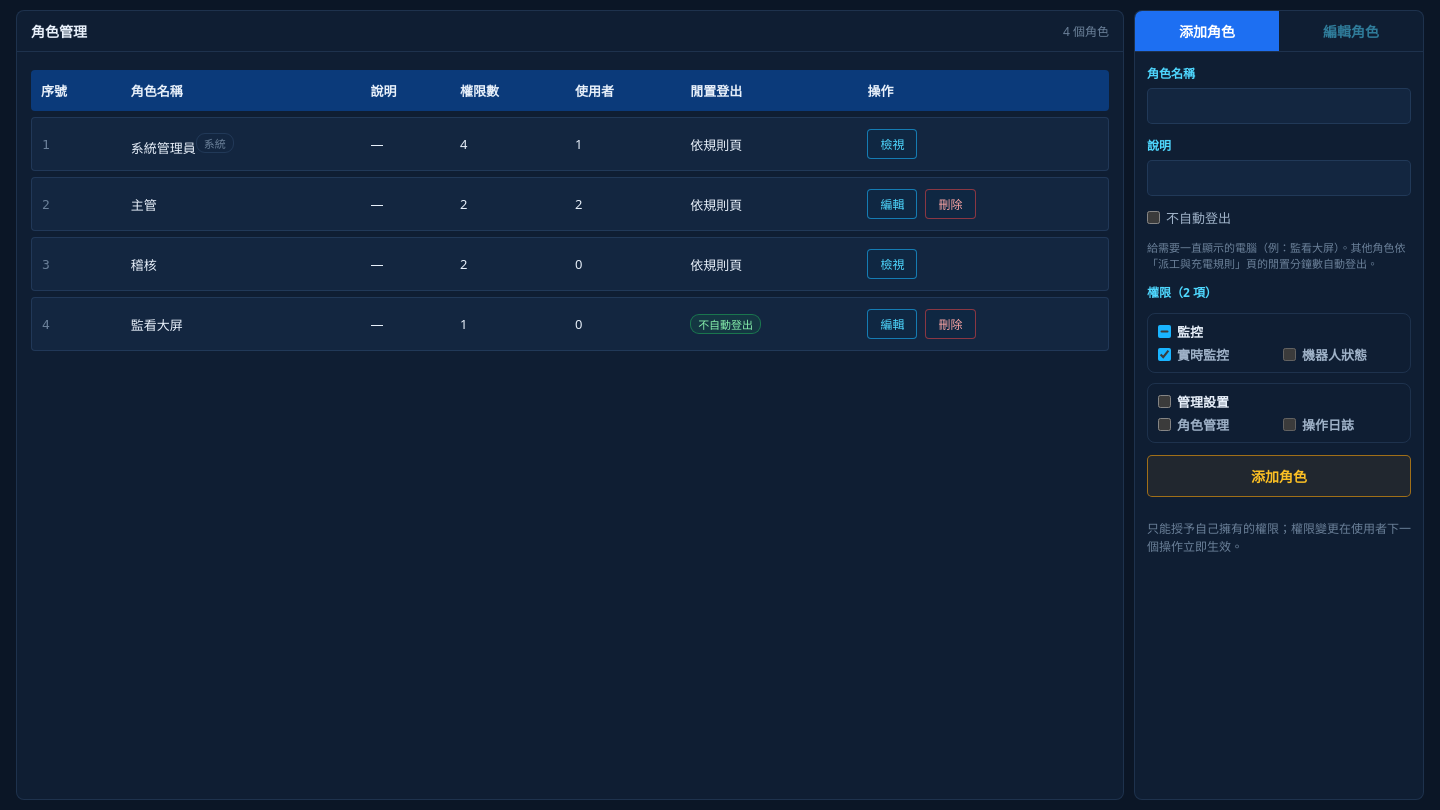
角色管理：不自動登出（PR #16 審查第 1 點） › 權限比自己高的角色、系統角色只能檢視；不能授予自己沒有的權限
This screenshot has width=1440, height=810.
Click the button "檢視" in the row of "稽核" at point(892, 264), box [868, 249, 918, 279]
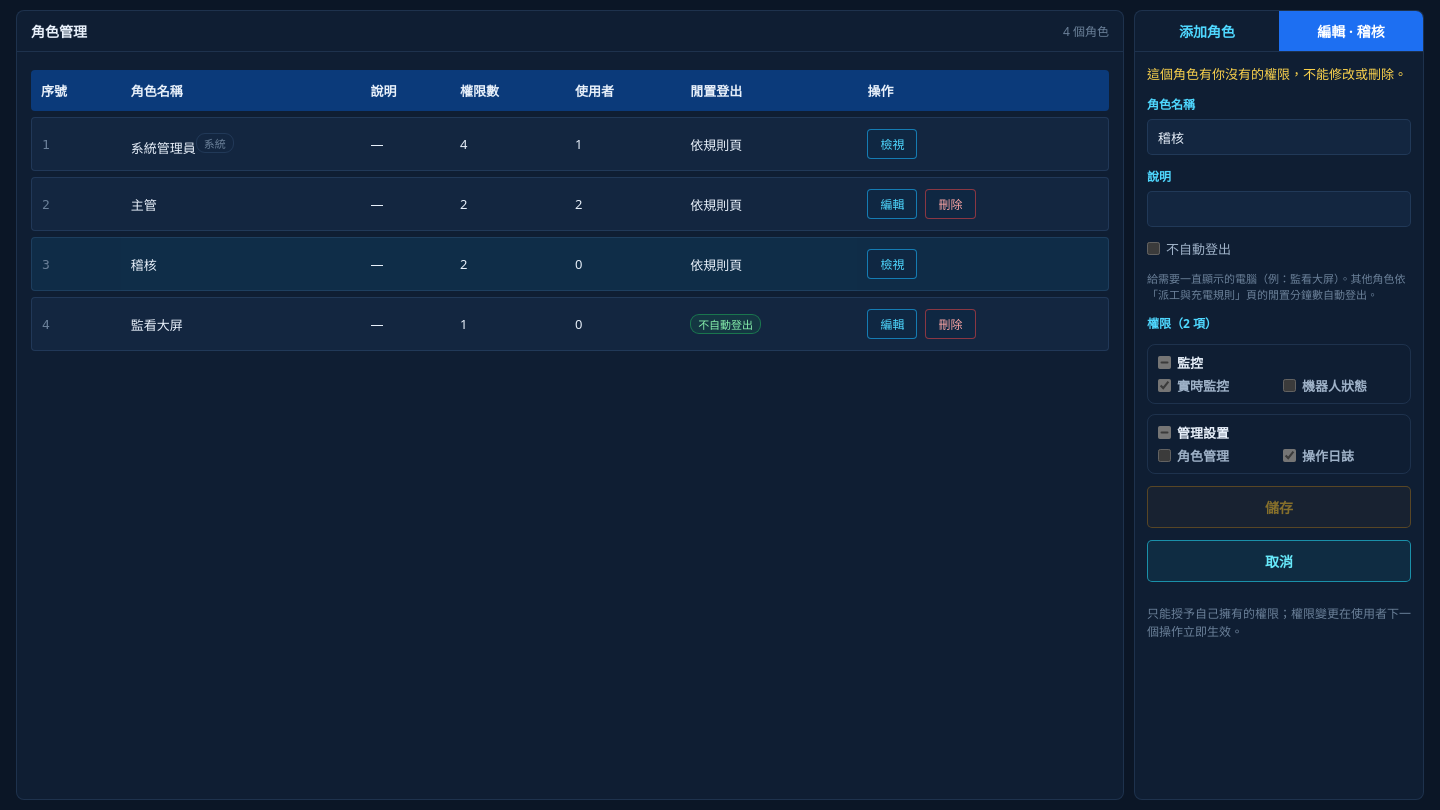
Expected: the text "這個角色有你沒有的權限，不能修改或刪除。" is shown, [1147, 64, 1411, 83]
Expected: the button "儲存" is disabled, [1147, 486, 1411, 528]
Click the button "檢視" in the row of "系統管理員" at point(892, 144), box [868, 129, 918, 159]
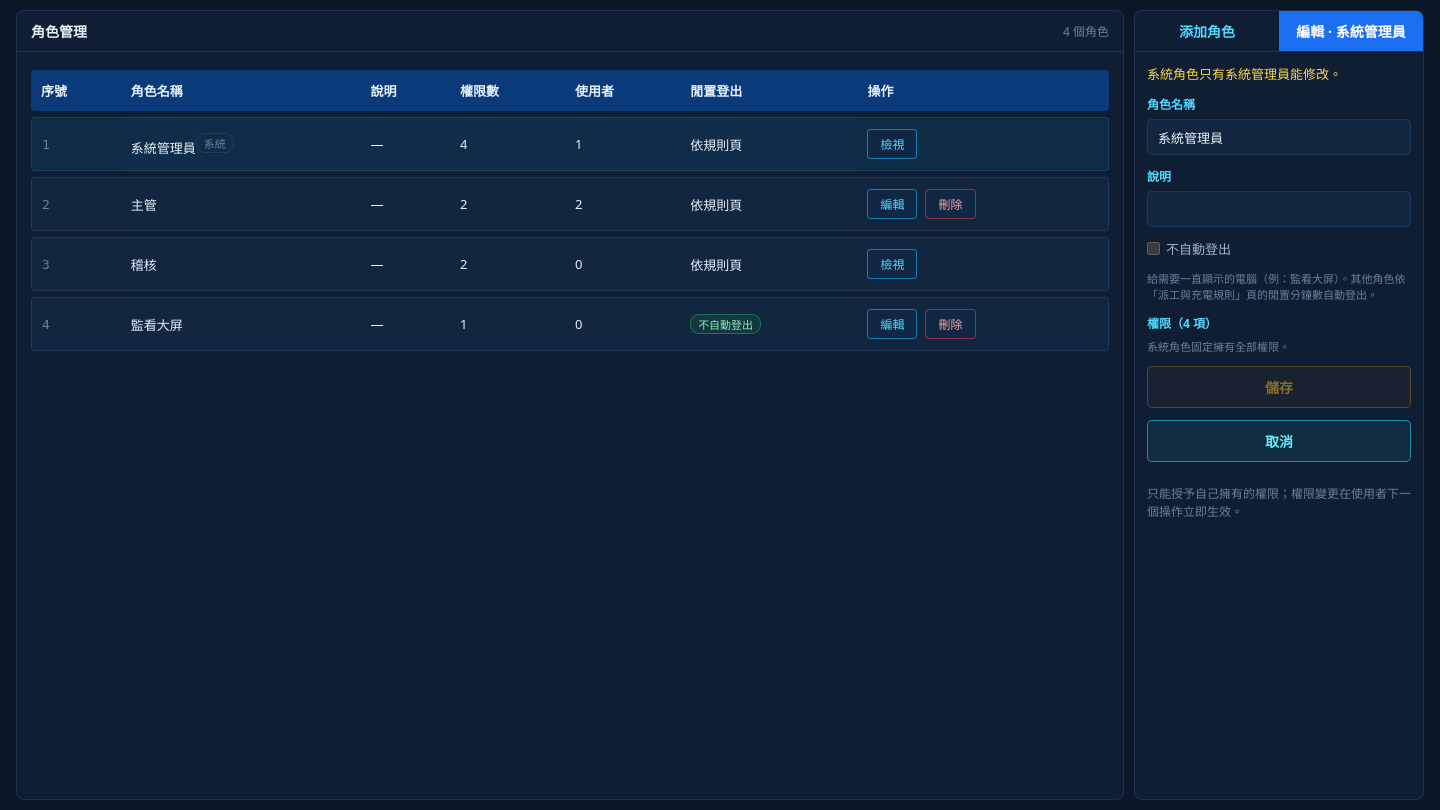
Expected: the text "系統角色只有系統管理員能修改。" is shown, [1147, 65, 1342, 83]
Note: 新增：自己沒有的權限不能勾
Click the button "添加角色" at point(1207, 31), box [1135, 11, 1279, 51]
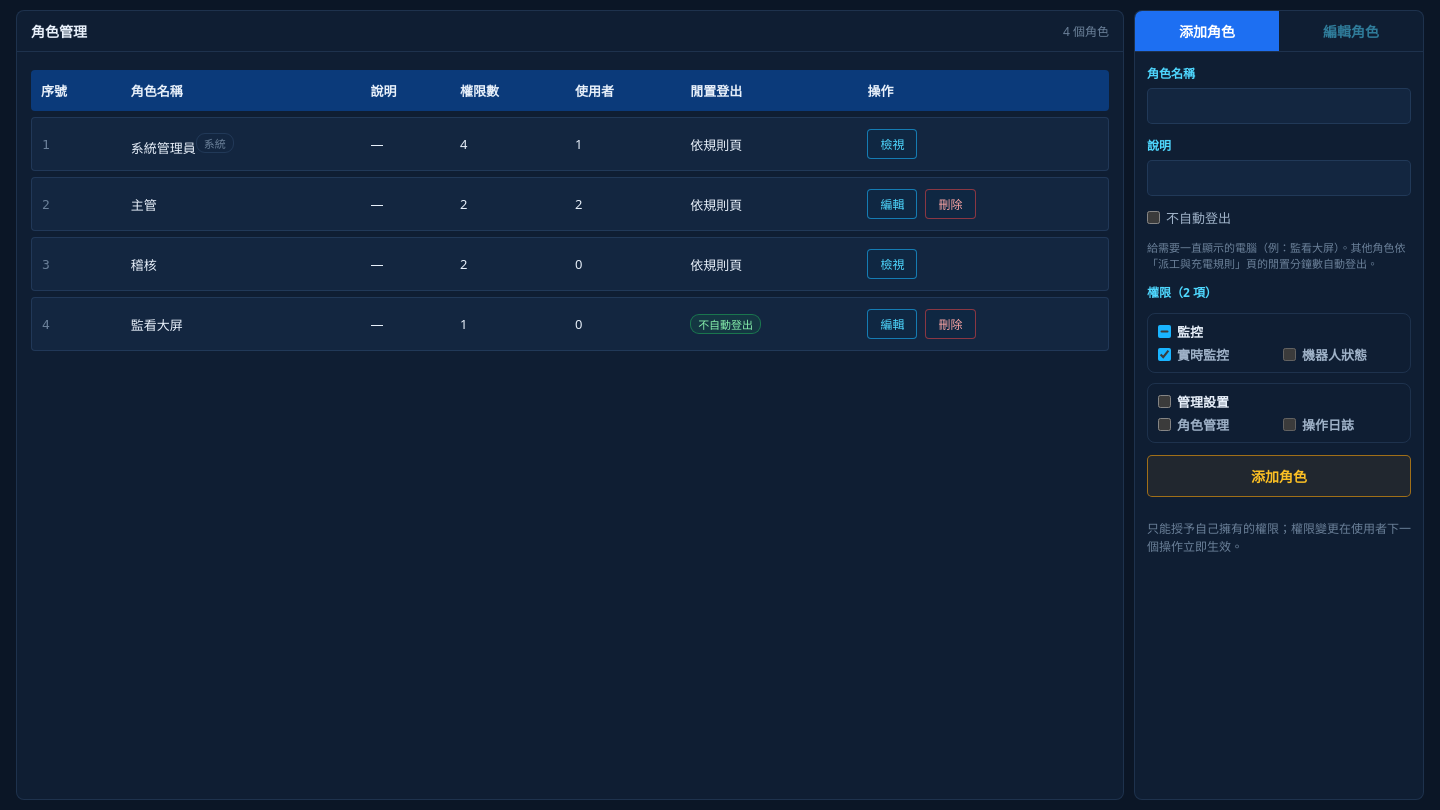
Expected: the checkbox labelled "操作日誌" is disabled, [1283, 418, 1296, 431]
Expected: the checkbox labelled "角色管理" is enabled, [1158, 418, 1171, 431]
